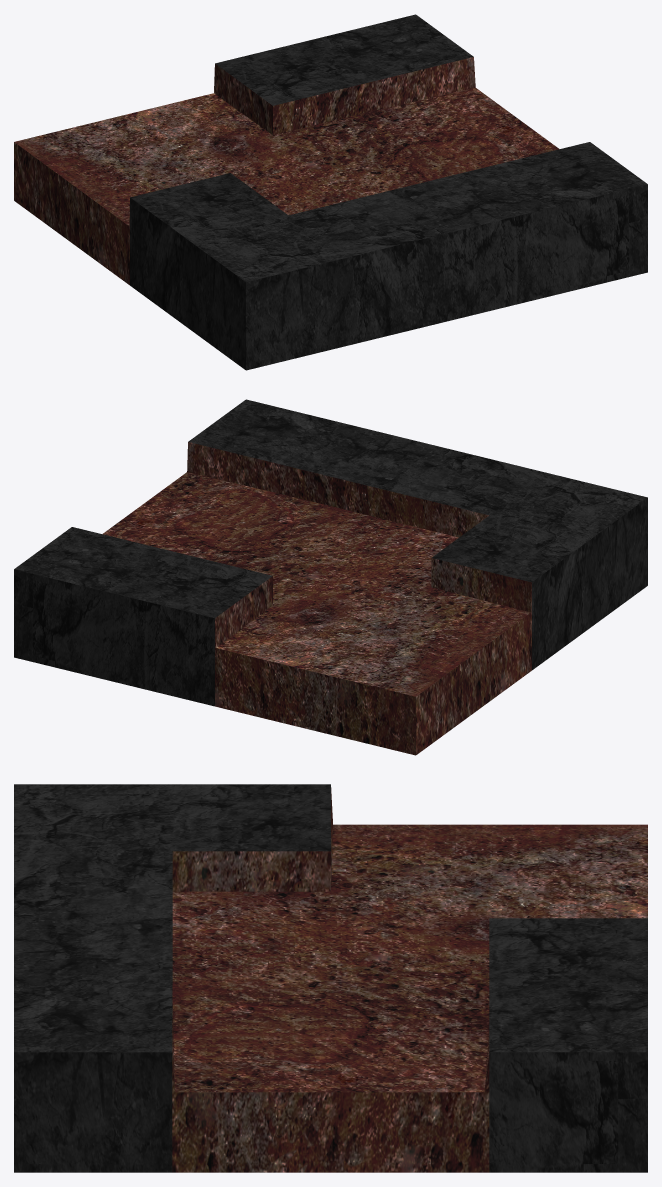
Rendered from EnemyPath12.fbx.
3 views of the same model, one above another, from view 1: azimuth 30°, elevation 25°; view 2: azimuth 150°, elevation 25°; view 3: azimuth 270°, elevation 25° (orthographic). The views are drawn at different scales.
Parts seen in each view (by area): view 1: EnemyPath12; view 2: EnemyPath12; view 3: EnemyPath12.
Boxes of the visible parts, x1,y1,x2,y2 form: EnemyPath12: [14, 14, 647, 370]; EnemyPath12: [14, 399, 647, 755]; EnemyPath12: [14, 784, 647, 1172].
Bounding box in the file's own units: 100 × 20.97 × 100.
Materials: 2 (2 with a texture image).
